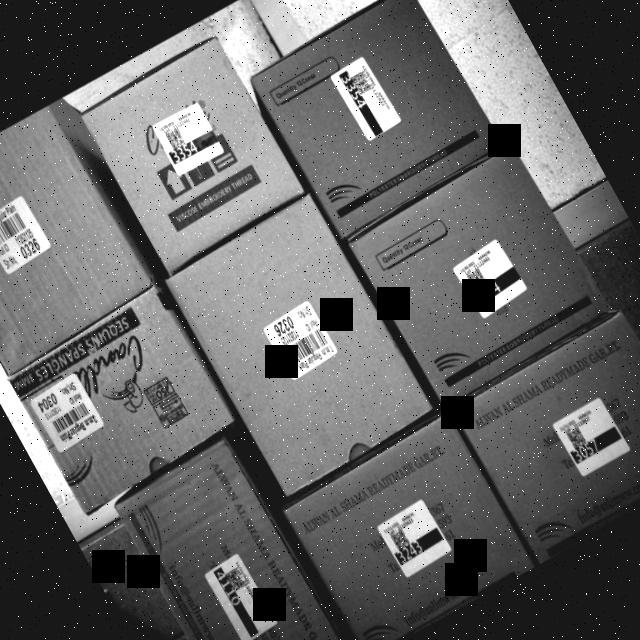box: (161, 196, 441, 502), (345, 146, 616, 412), (250, 0, 512, 244), (277, 408, 536, 640), (75, 35, 308, 278), (8, 286, 247, 520), (450, 310, 640, 564), (117, 447, 354, 640), (0, 102, 162, 378)
